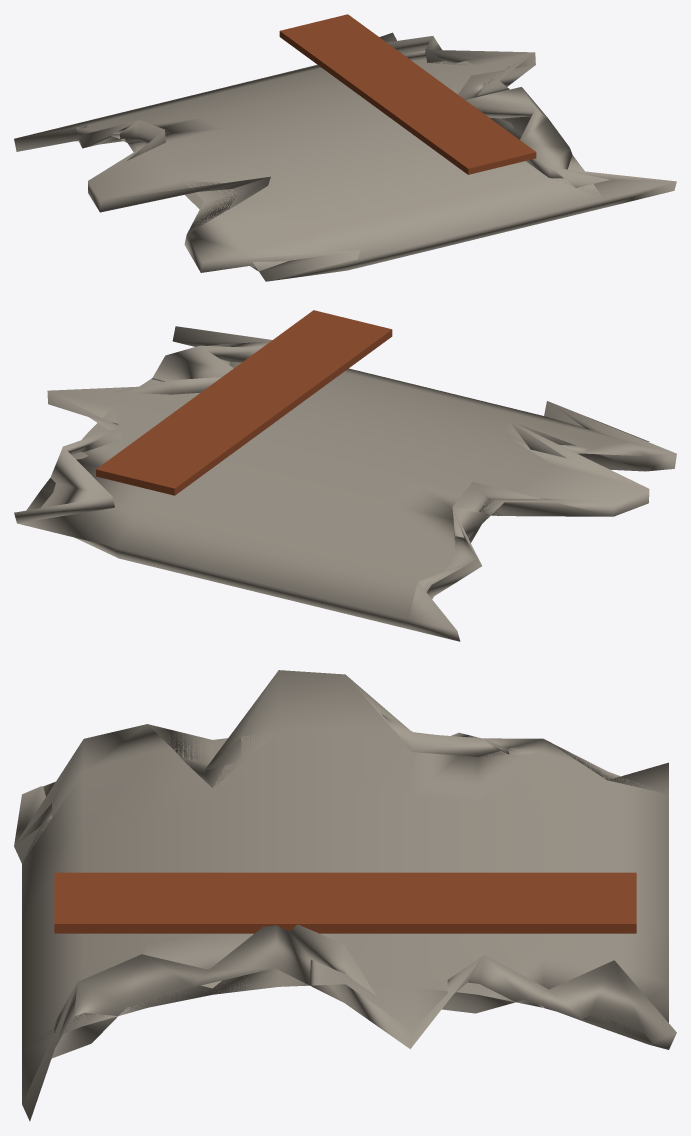
Rendered from prop_shard_0.glb.
3 renders of one model, top to bottom at view 1: azimuth 30°, elevation 25°; view 2: azimuth 150°, elevation 25°; view 3: azimuth 270°, elevation 25°, orthographic. The views are drawn at different scales.
Parts seen in each view (by area): view 1: shard_0_skin, shard_0_band; view 2: shard_0_skin, shard_0_band; view 3: shard_0_skin, shard_0_band.
Boxes of the visible parts, x1=… form: shard_0_skin: x1=14, y1=32, x2=676, y2=281; shard_0_band: x1=279, y1=14, x2=536, y2=174; shard_0_skin: x1=14, y1=326, x2=676, y2=641; shard_0_band: x1=96, y1=310, x2=392, y2=495; shard_0_skin: x1=14, y1=670, x2=676, y2=1121; shard_0_band: x1=54, y1=872, x2=636, y2=933.
Bounding box in the file's own units: 2.53 × 0.3214 × 1.91.
